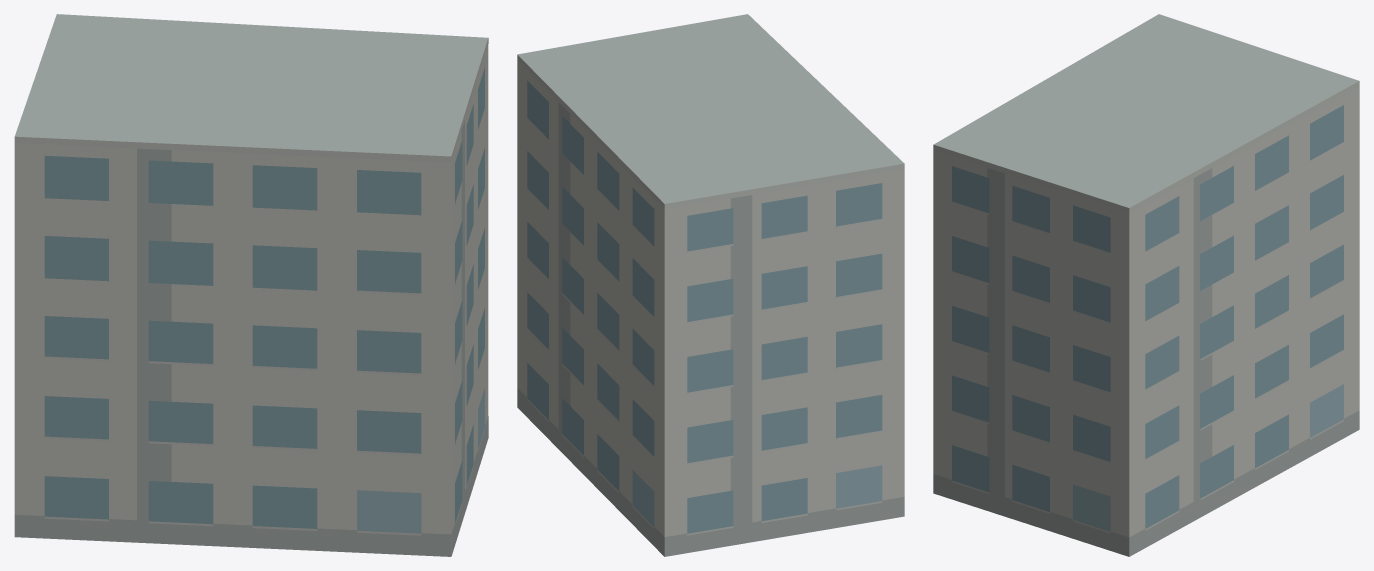
Rendered from survey-upis-32760468.glb.
The picture shows the model from 3 angles, left to right: view 1: azimuth 30°, elevation 25°; view 2: azimuth 150°, elevation 25°; view 3: azimuth 270°, elevation 25°; orthographic projection. The views are drawn at different scales.
Visible parts, largest first — view 1: survey-upis-32760468.tmp; view 2: survey-upis-32760468.tmp; view 3: survey-upis-32760468.tmp.
Boxes of the visible parts, x1,y1,x2,y2 form: survey-upis-32760468.tmp: [14, 14, 488, 556]; survey-upis-32760468.tmp: [517, 14, 904, 556]; survey-upis-32760468.tmp: [933, 14, 1359, 556].
Bounding box in the file's own units: 18.21 × 15.25 × 16.89.
